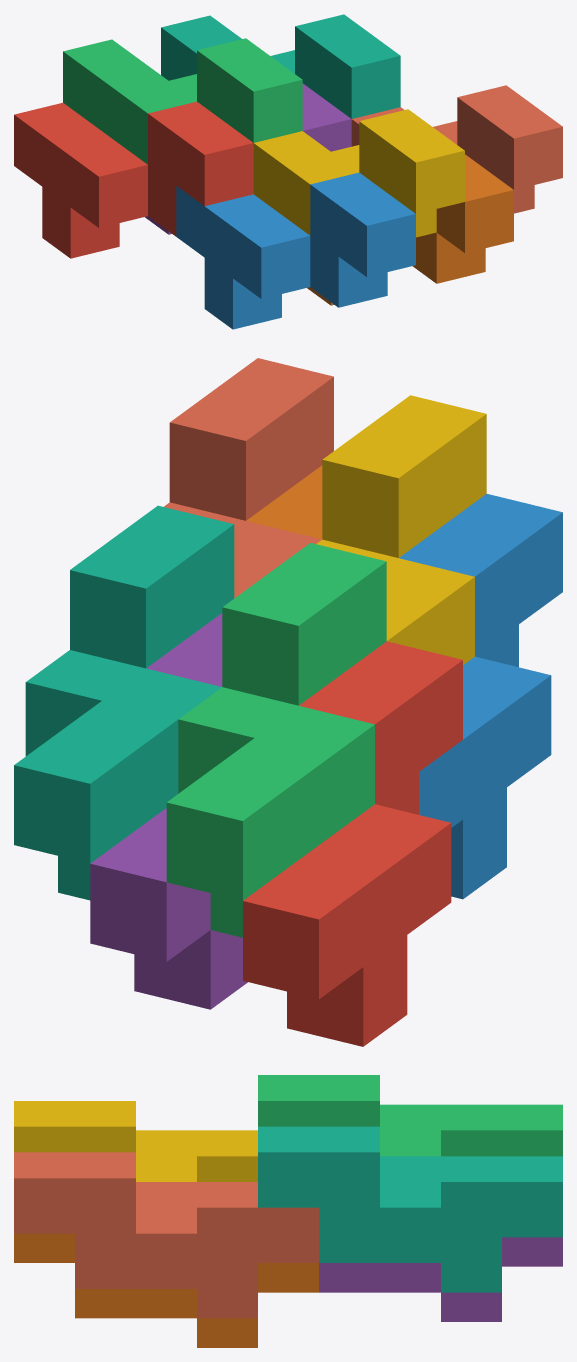
File: tiling.obj
3 renders of one model, top to bottom at view 1: azimuth 30°, elevation 25°; view 2: azimuth 150°, elevation 25°; view 3: azimuth 270°, elevation 25°, orthographic. The views are drawn at different scales.
Visible parts, largest first — view 1: copy_1_domain_2, copy_1_domain_1, copy_1_domain_3, copy_1_domain_4, copy_1_domain_7, copy_1_domain_8, copy_1_domain_6, copy_1_domain_5; view 2: copy_1_domain_3, copy_1_domain_7, copy_1_domain_1, copy_1_domain_2, copy_1_domain_4, copy_1_domain_8, copy_1_domain_5, copy_1_domain_6; view 3: copy_1_domain_7, copy_1_domain_8, copy_1_domain_3, copy_1_domain_4, copy_1_domain_6, copy_1_domain_5.
Boxes of the visible parts, box(x1,y1,x2,y2) form: copy_1_domain_2: box(176, 172, 415, 329); copy_1_domain_1: box(14, 101, 253, 258); copy_1_domain_3: box(63, 38, 302, 164); copy_1_domain_4: box(253, 109, 464, 237); copy_1_domain_7: box(161, 14, 400, 118); copy_1_domain_8: box(351, 85, 562, 213); copy_1_domain_6: box(307, 154, 513, 305); copy_1_domain_5: box(145, 83, 351, 234); copy_1_domain_3: box(166, 543, 386, 937); copy_1_domain_7: box(14, 505, 234, 900); copy_1_domain_1: box(243, 641, 462, 1046); copy_1_domain_2: box(399, 494, 562, 899); copy_1_domain_4: box(316, 395, 486, 664); copy_1_domain_8: box(164, 358, 333, 598); copy_1_domain_5: box(90, 613, 247, 1009); copy_1_domain_6: box(246, 465, 322, 539); copy_1_domain_7: box(258, 1126, 562, 1292); copy_1_domain_8: box(14, 1152, 318, 1318); copy_1_domain_3: box(258, 1075, 562, 1156); copy_1_domain_4: box(14, 1101, 257, 1181); copy_1_domain_6: box(14, 1233, 318, 1347); copy_1_domain_5: box(319, 1237, 562, 1321).
Bounding box in the file's own units: 6 × 4 × 9.
